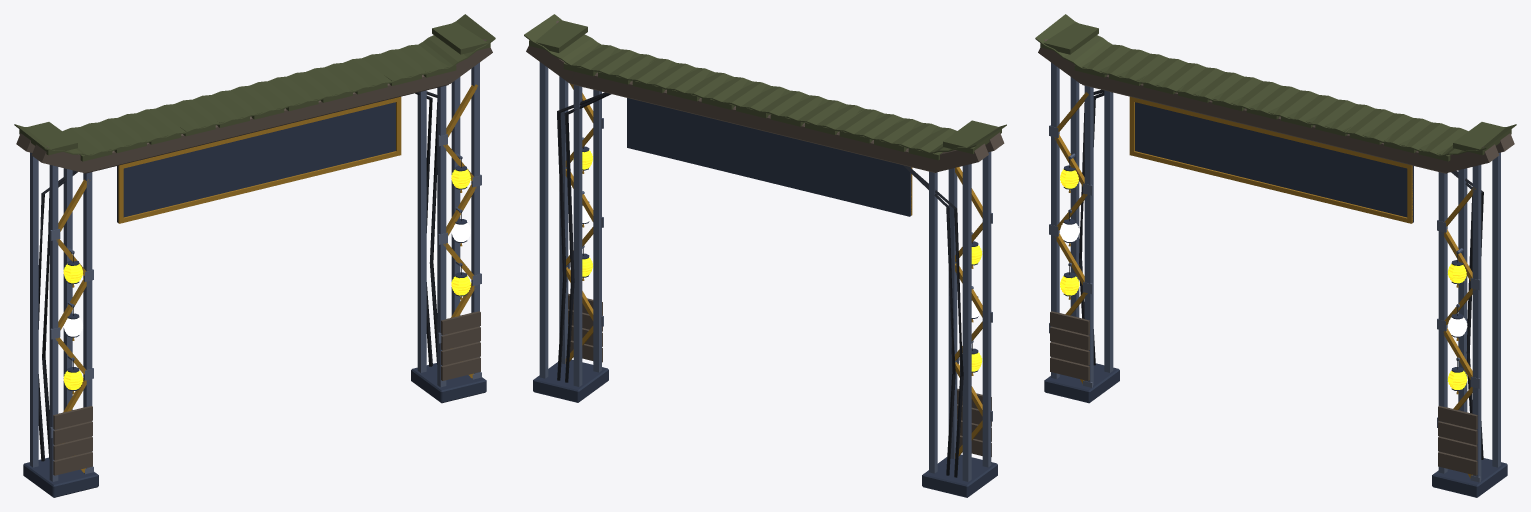
The model's file is bw_targ_gate.glb.
3 renders of one model, left to right at view 1: azimuth 30°, elevation 25°; view 2: azimuth 150°, elevation 25°; view 3: azimuth 330°, elevation 25°, orthographic.
Visible parts, largest first — view 1: chord.001, chord.002, chord, chord.005, chord.003, chord.007, chord.006, chord.004, chord.008; view 2: chord.001, chord.002, chord, chord.005, chord.007, chord.003, chord.006; view 3: chord.001, chord.002, chord, chord.005, chord.003, chord.007, chord.006, chord.004, chord.008.
Part boxes in pixels (bbox=[...]): chord.001: bbox=[30, 62, 479, 481]; chord.002: bbox=[23, 102, 486, 497]; chord: bbox=[14, 14, 495, 161]; chord.005: bbox=[16, 39, 492, 475]; chord.003: bbox=[55, 84, 477, 472]; chord.007: bbox=[38, 91, 461, 461]; chord.006: bbox=[63, 169, 470, 389]; chord.004: bbox=[50, 134, 481, 474]; chord.008: bbox=[63, 223, 470, 336]; chord.001: bbox=[539, 62, 991, 481]; chord.002: bbox=[533, 98, 997, 497]; chord: bbox=[524, 14, 1006, 160]; chord.005: bbox=[526, 20, 1004, 456]; chord.007: bbox=[557, 92, 972, 477]; chord.003: bbox=[565, 83, 982, 458]; chord.006: bbox=[573, 150, 982, 371]; chord.001: bbox=[1051, 62, 1500, 479]; chord.002: bbox=[1044, 102, 1507, 497]; chord: bbox=[1035, 14, 1516, 161]; chord.005: bbox=[1038, 39, 1514, 475]; chord.003: bbox=[1054, 92, 1475, 478]; chord.007: bbox=[1069, 89, 1483, 459]; chord.006: bbox=[1060, 169, 1467, 389]; chord.004: bbox=[1049, 125, 1480, 482]; chord.008: bbox=[1060, 223, 1467, 336].
Bounding box in the file's own units: 8 × 6 × 1.
